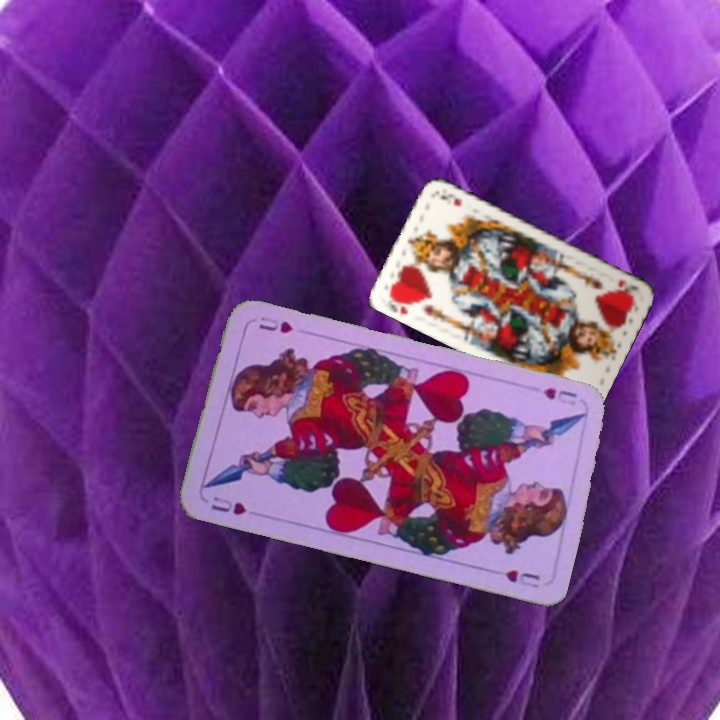HK: (384, 290, 415, 318), (614, 275, 640, 293)
HU: (207, 492, 249, 518), (539, 383, 579, 409)
